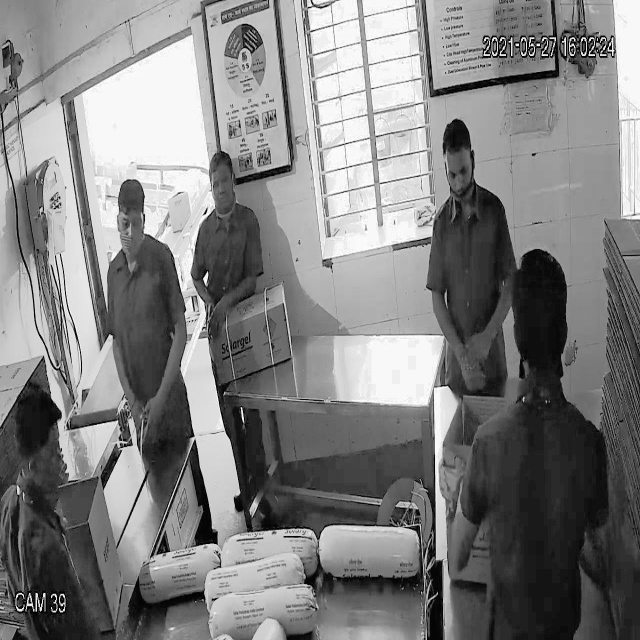Sin_gafas: (437, 156, 478, 192), (112, 208, 152, 239)
